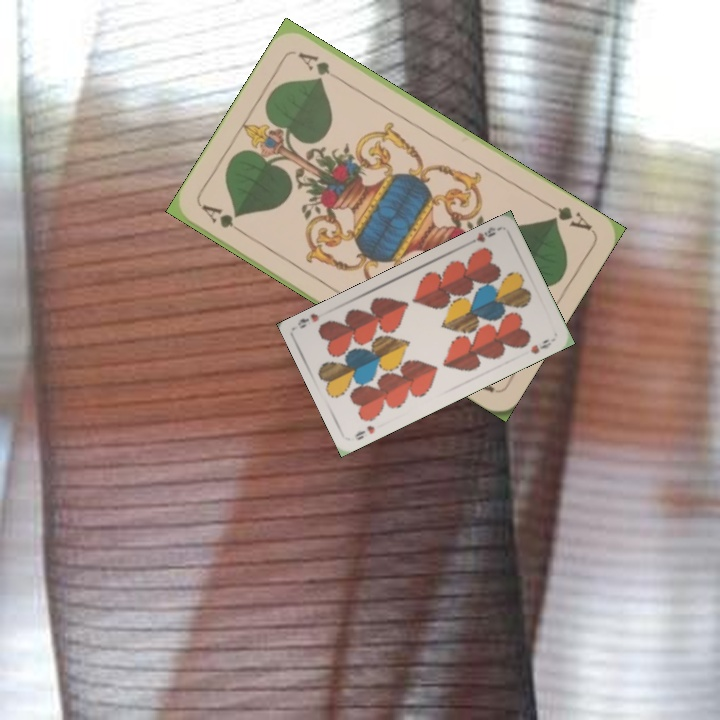GA: (197, 200, 250, 239), (540, 197, 595, 234)
H9: (463, 223, 498, 248), (350, 421, 377, 443)
